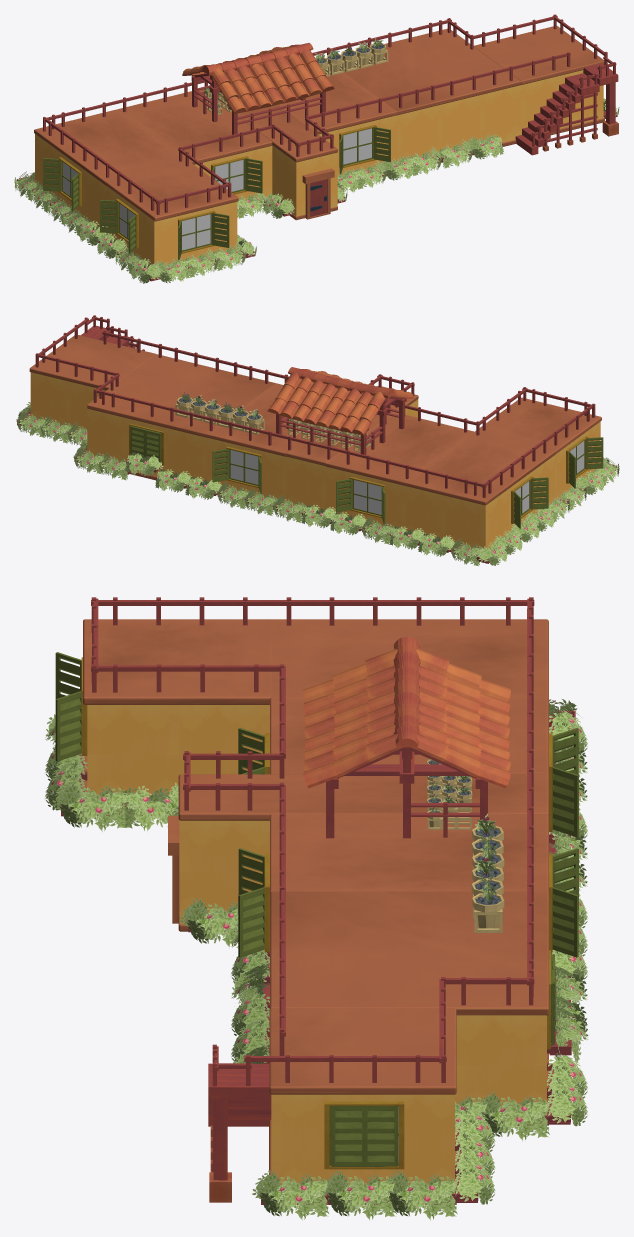
The model's file is Long's house modular house 4.fbx.
3 renders of one model, top to bottom at view 1: azimuth 30°, elevation 25°; view 2: azimuth 150°, elevation 25°; view 3: azimuth 270°, elevation 25°, orthographic. The views are drawn at different scales.
Parts seen in each view (by area): view 1: Cube.790; view 2: Cube.790; view 3: Cube.790.
Boxes of the visible parts, <box> form: Cube.790: <box>14,14,619,283</box>; Cube.790: <box>16,315,619,566</box>; Cube.790: <box>45,597,588,1220</box>.
Bounding box in the file's own units: 5710 × 1224 × 2630.
